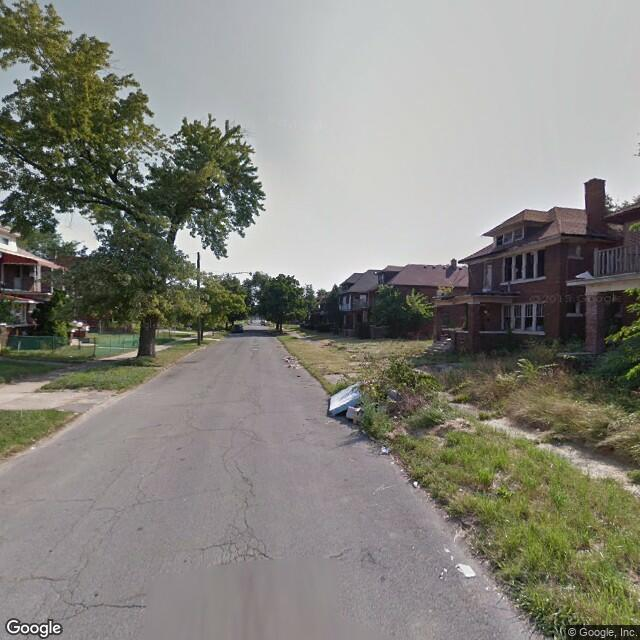litter: (320, 381, 376, 419), (404, 476, 423, 488), (378, 443, 392, 457)
